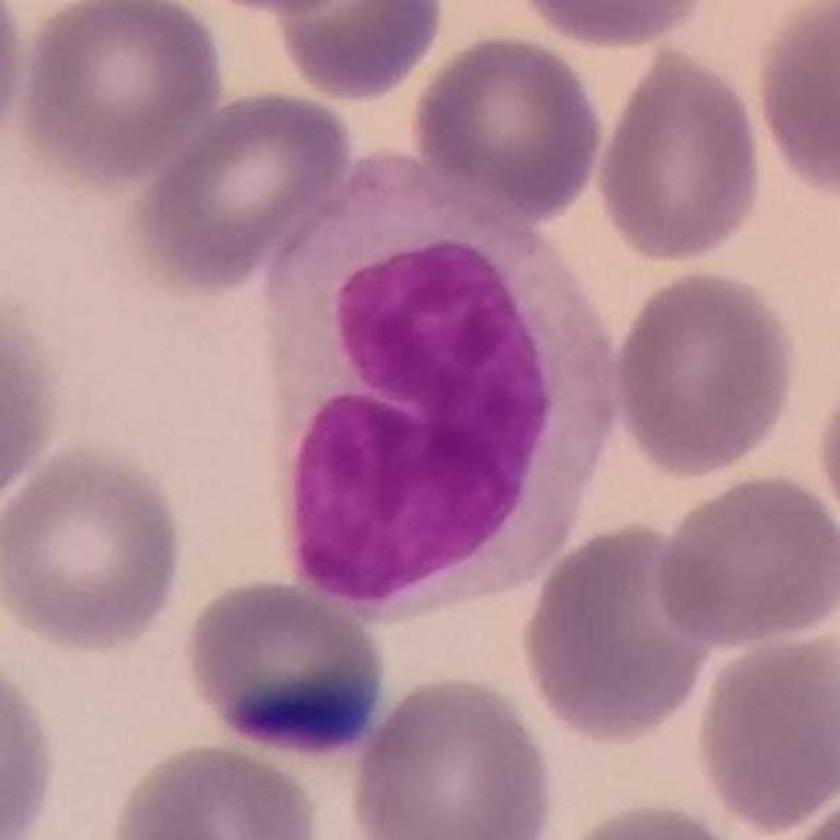monocyte: (257, 136, 630, 631)
